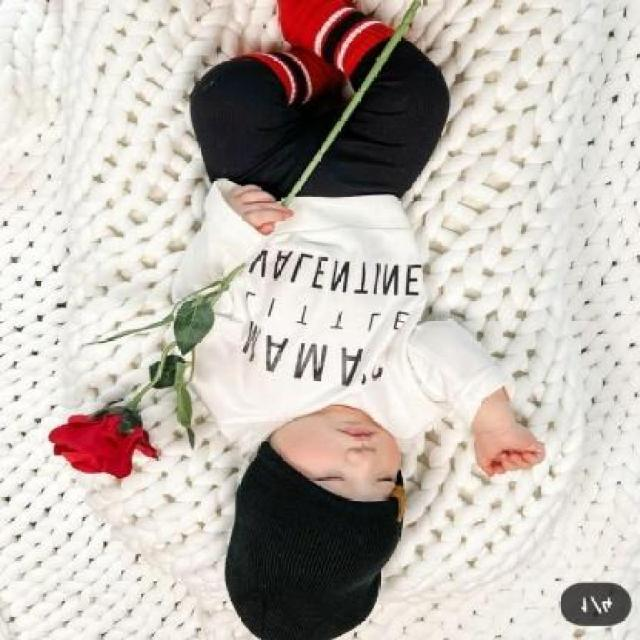baby: (166, 1, 543, 640)
